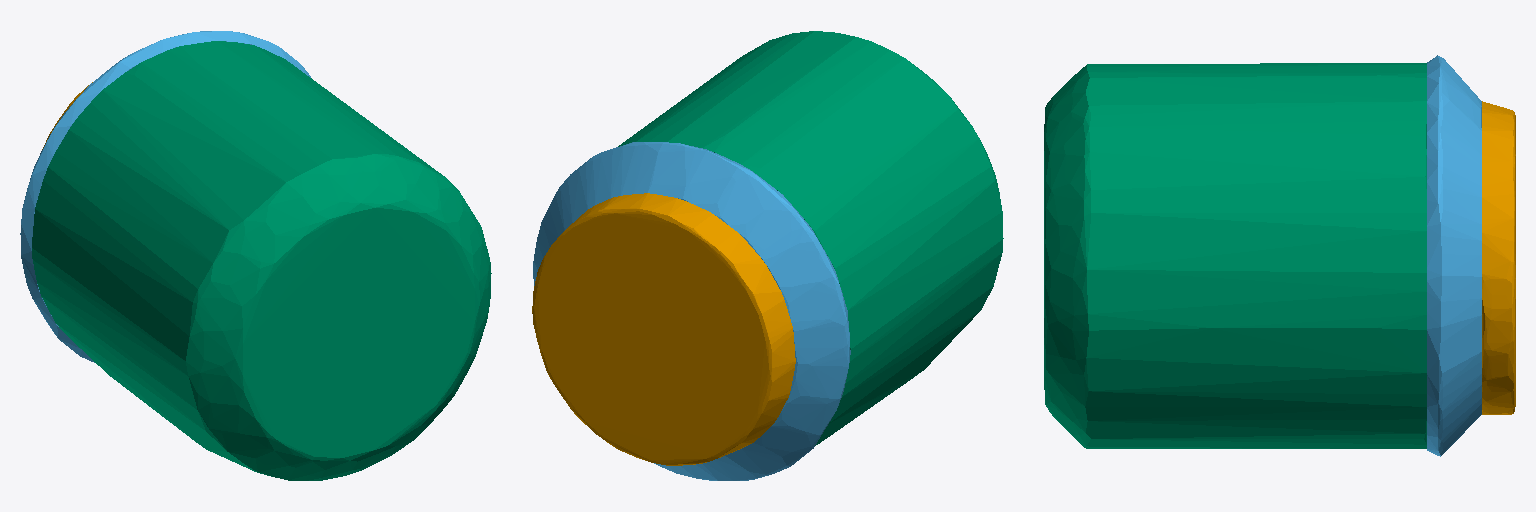
robot.urdf — root:
<robot name="root">
  <link name="link_convex_piece_001.obj">
    <inertial>
      <origin xyz="0 0 0" rpy="0 0 0"/>
    </inertial>
    <visual>
      <origin xyz="0 0 0" rpy="0 0 0"/>
      <geometry>
        <mesh filename="meshes/convex_piece_001.obj" scale="1.0 1.0 1.0"/>
      </geometry>
    </visual>
    <collision>
      <origin xyz="0 0 0" rpy="0 0 0"/>
      <geometry>
        <mesh filename="meshes/convex_piece_001.obj" scale="1.0 1.0 1.0"/>
      </geometry>
    </collision>
  </link>
  <link name="link_convex_piece_002.obj">
    <inertial>
      <origin xyz="0 0 0" rpy="0 0 0"/>
    </inertial>
    <visual>
      <origin xyz="0 0 0" rpy="0 0 0"/>
      <geometry>
        <mesh filename="meshes/convex_piece_002.obj" scale="1.0 1.0 1.0"/>
      </geometry>
    </visual>
    <collision>
      <origin xyz="0 0 0" rpy="0 0 0"/>
      <geometry>
        <mesh filename="meshes/convex_piece_002.obj" scale="1.0 1.0 1.0"/>
      </geometry>
    </collision>
  </link>
  <joint name="link_convex_piece_002.obj_joint" type="fixed">
    <origin xyz="0 0 0" rpy="0 0 0"/>
    <parent link="link_convex_piece_001.obj"/>
    <child link="link_convex_piece_002.obj"/>
  </joint>
  <link name="link_convex_piece_000.obj">
    <inertial>
      <origin xyz="0 0 0" rpy="0 0 0"/>
    </inertial>
    <visual>
      <origin xyz="0 0 0" rpy="0 0 0"/>
      <geometry>
        <mesh filename="meshes/convex_piece_000.obj" scale="1.0 1.0 1.0"/>
      </geometry>
    </visual>
    <collision>
      <origin xyz="0 0 0" rpy="0 0 0"/>
      <geometry>
        <mesh filename="meshes/convex_piece_000.obj" scale="1.0 1.0 1.0"/>
      </geometry>
    </collision>
  </link>
  <joint name="link_convex_piece_000.obj_joint" type="fixed">
    <origin xyz="0 0 0" rpy="0 0 0"/>
    <parent link="link_convex_piece_002.obj"/>
    <child link="link_convex_piece_000.obj"/>
  </joint>
</robot>

--- Facts derived from the render (not from the file) ---
The picture shows the robot from 3 angles, left to right: view 1: azimuth 30°, elevation 25°; view 2: azimuth 150°, elevation 25°; view 3: azimuth 270°, elevation 25°; orthographic projection.
Model root with 3 links and 2 joints (2 fixed), rooted at link_convex_piece_001.obj, posed all joints at 0.
Links seen in each view (by area): view 1: link_convex_piece_000.obj, link_convex_piece_002.obj; view 2: link_convex_piece_000.obj, link_convex_piece_001.obj, link_convex_piece_002.obj; view 3: link_convex_piece_000.obj, link_convex_piece_002.obj, link_convex_piece_001.obj.
Boxes of the visible links, x1,y1,x2,y2 form: link_convex_piece_000.obj: [32, 41, 491, 480]; link_convex_piece_002.obj: [20, 31, 310, 362]; link_convex_piece_000.obj: [618, 31, 1003, 445]; link_convex_piece_001.obj: [532, 193, 795, 465]; link_convex_piece_002.obj: [533, 142, 850, 480]; link_convex_piece_000.obj: [1044, 63, 1426, 448]; link_convex_piece_002.obj: [1427, 55, 1481, 456]; link_convex_piece_001.obj: [1482, 101, 1515, 414].
Size in the robot's own frame: 1.09 by 1.28 by 1.09 metres.
Meshes: 3 distinct files referenced, 3 mesh visuals loaded (3 OBJ).